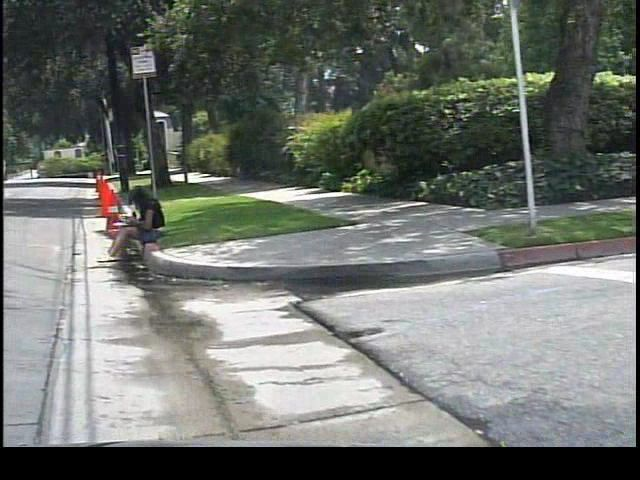person: (93, 183, 171, 266)
